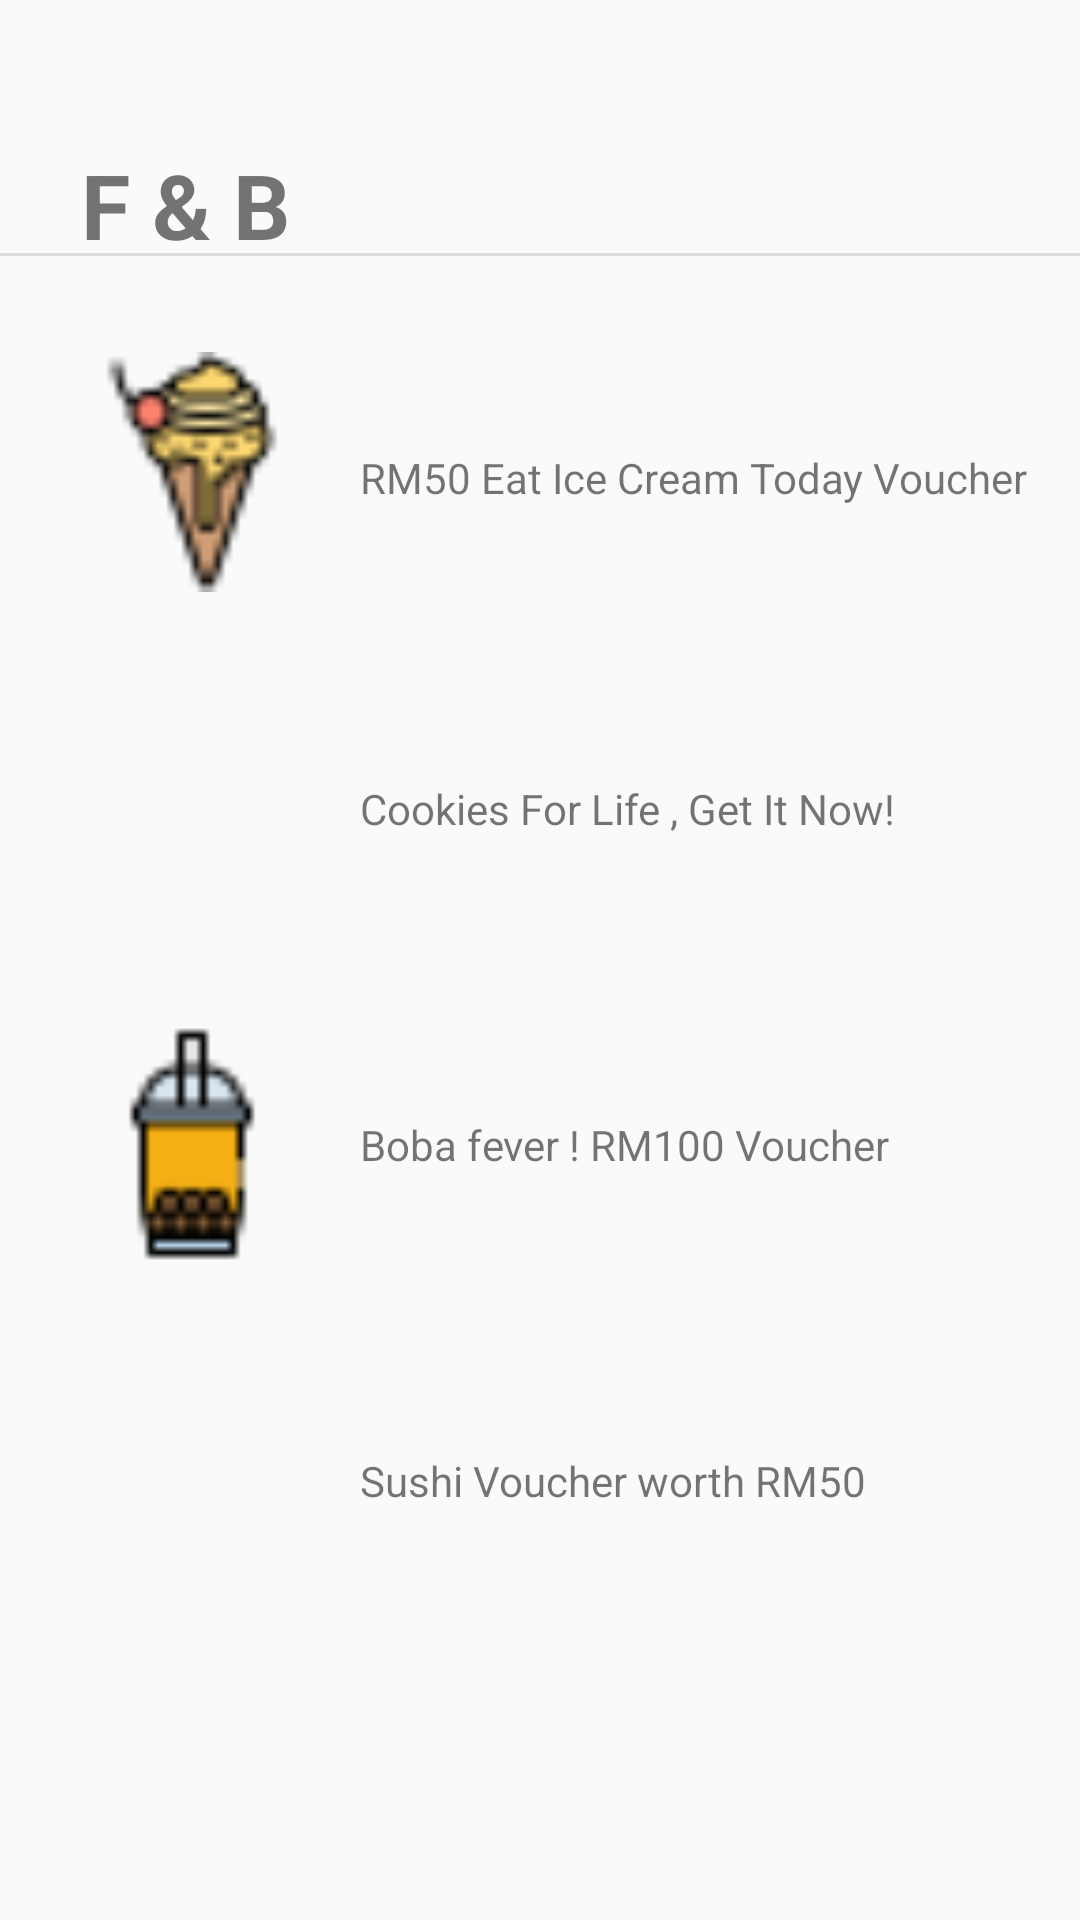

Where icons sit on this 1080*1920 app screen, as bbox(x1, y1, x2, y2):
bubbletea: bbox(129, 1028, 255, 1260)
